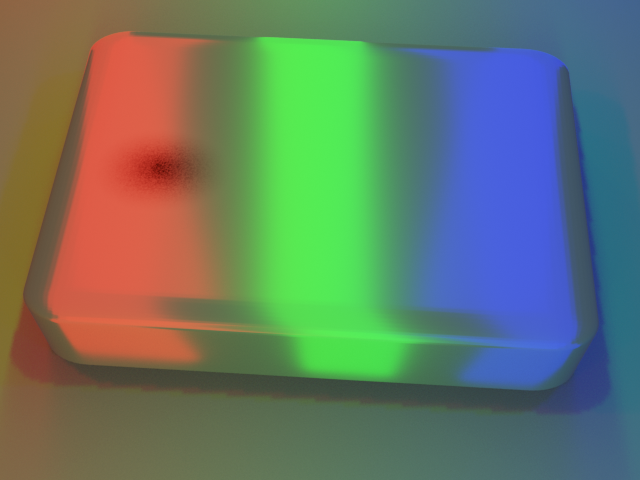stain: (43, 99, 249, 215)
